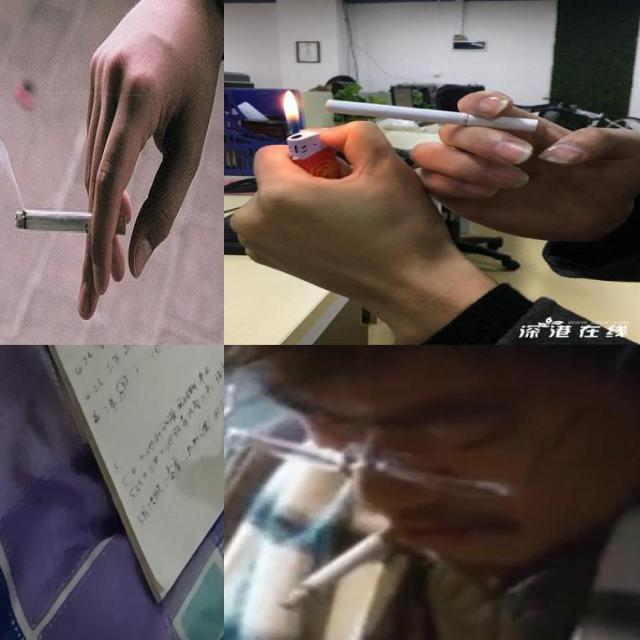smoking: (274, 526, 399, 611), (324, 99, 540, 134), (14, 208, 126, 236)
